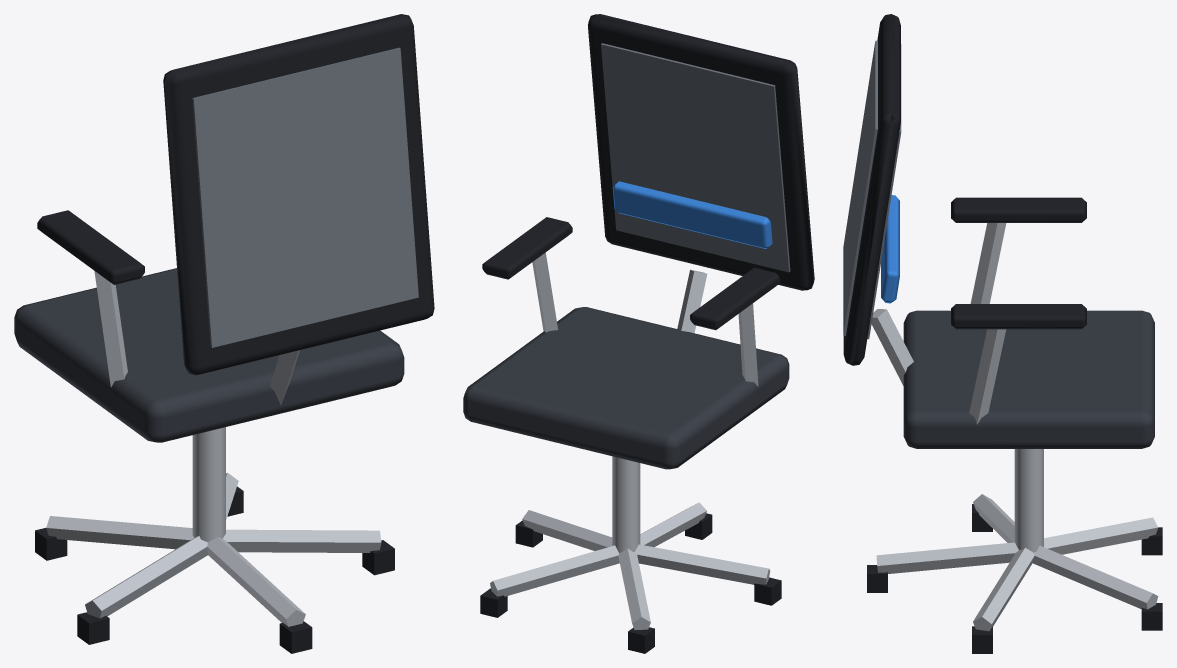
Rendered from station_processing_ausstattung_3_2.glb.
The picture shows the model from 3 angles, left to right: view 1: azimuth 30°, elevation 25°; view 2: azimuth 150°, elevation 25°; view 3: azimuth 270°, elevation 25°; orthographic projection. The views are drawn at different scales.
Parts seen in each view (by area): view 1: station_processing_ausstattung_3_2; view 2: station_processing_ausstattung_3_2; view 3: station_processing_ausstattung_3_2.
Boxes of the visible parts, box(x1,y1,x2,y2) form: station_processing_ausstattung_3_2: box(14, 14, 434, 653); station_processing_ausstattung_3_2: box(463, 14, 814, 653); station_processing_ausstattung_3_2: box(843, 14, 1162, 653).
Size of the model in its own units: 0.5916 by 1.11 by 0.61.
